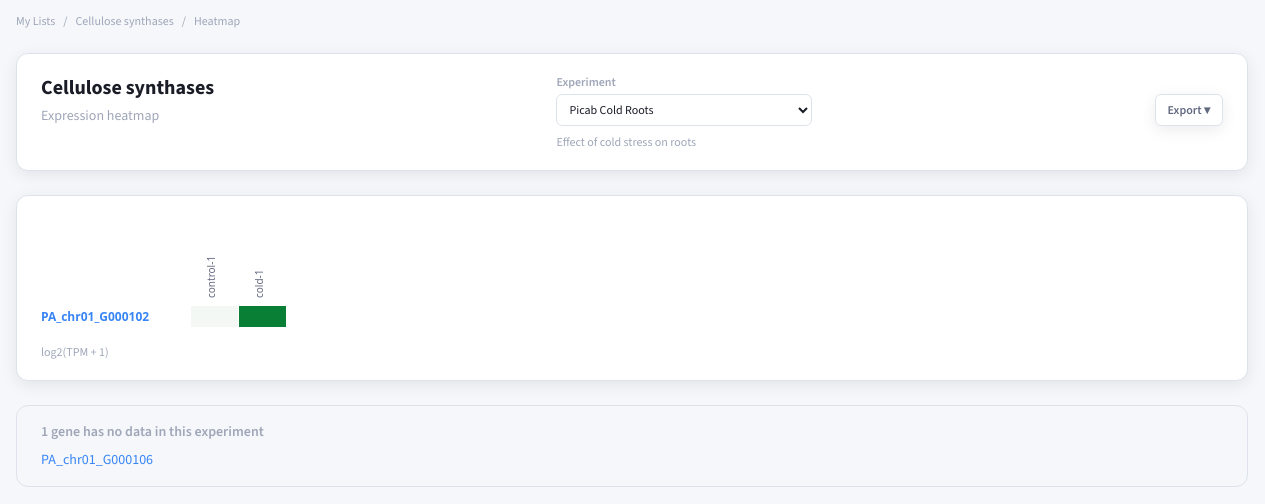
Test case: HeatmapPage › offers PNG, SVG and TSV exports
The width and height of the screenshot is (1265, 504).
Expected: the text "control-1" is shown, [204, 256, 218, 298]
Step 1. Click the button "Export ▾" → point(1189, 110), box [1155, 94, 1223, 126]
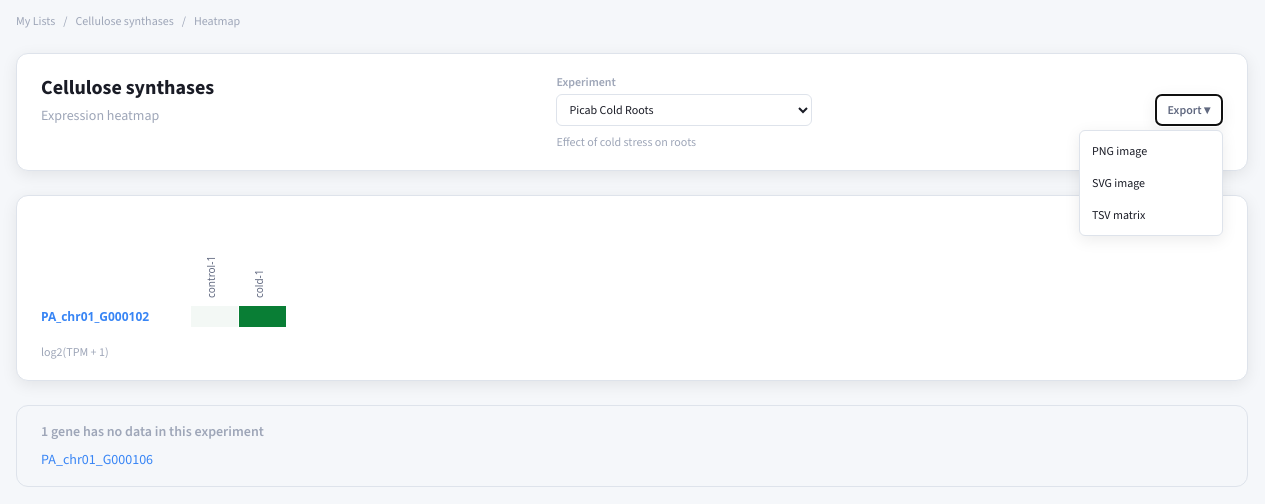
Expected: the menu item "PNG image" is shown, [1080, 135, 1222, 167]
Expected: the menu item "SVG image" is shown, [1080, 167, 1222, 199]
Expected: the menu item "TSV matrix" is shown, [1080, 199, 1222, 231]
